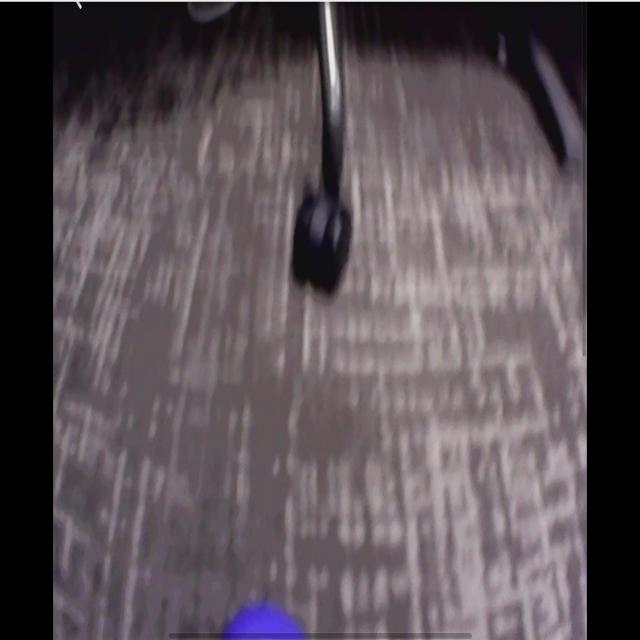ball: (219, 604, 309, 637)
